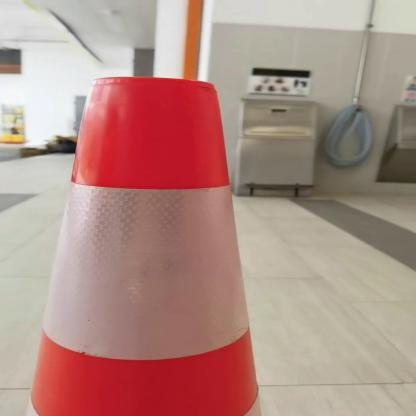cone: (7, 66, 320, 416)
